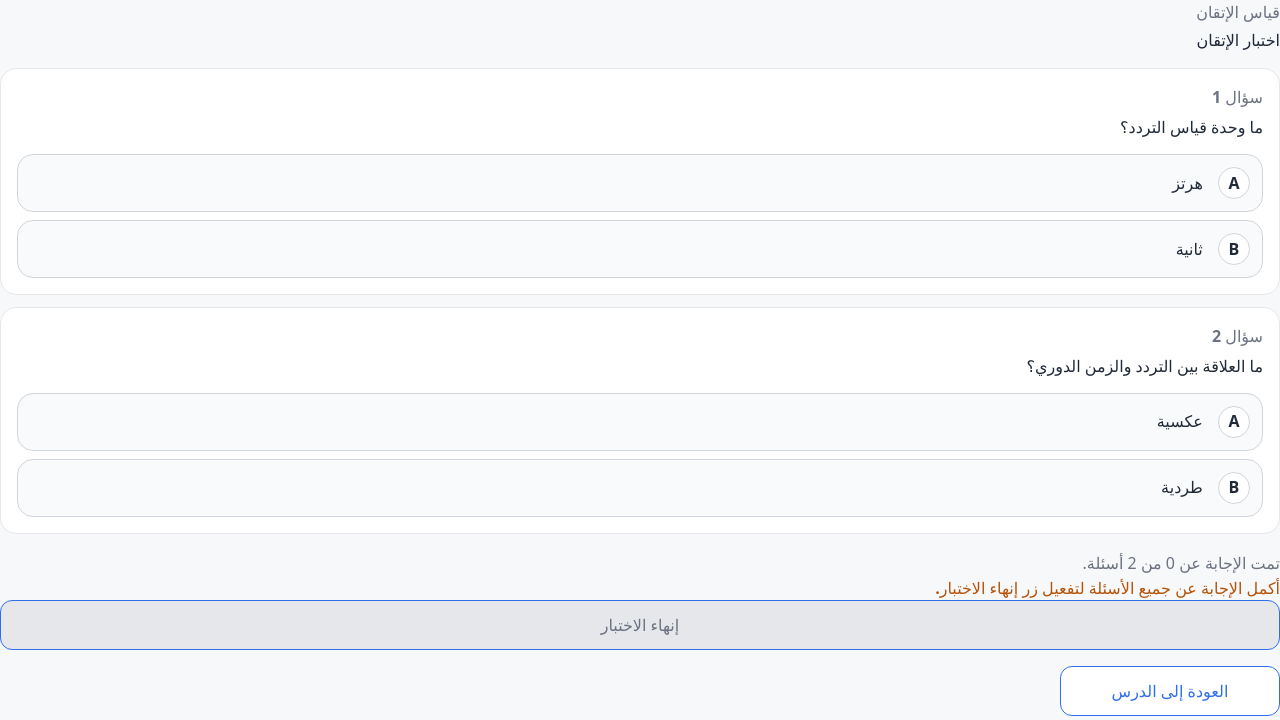
Test: MasteryTestView result persistence integration › يعامل الزائر كـnot_applicable بلا رسالة خطأ أو استدعاء خدمة
What coordinates should you click on to do the following:
click the button "A هرتز"
I would click on:
 (1234, 183)
Its box is [17,154,1263,212].
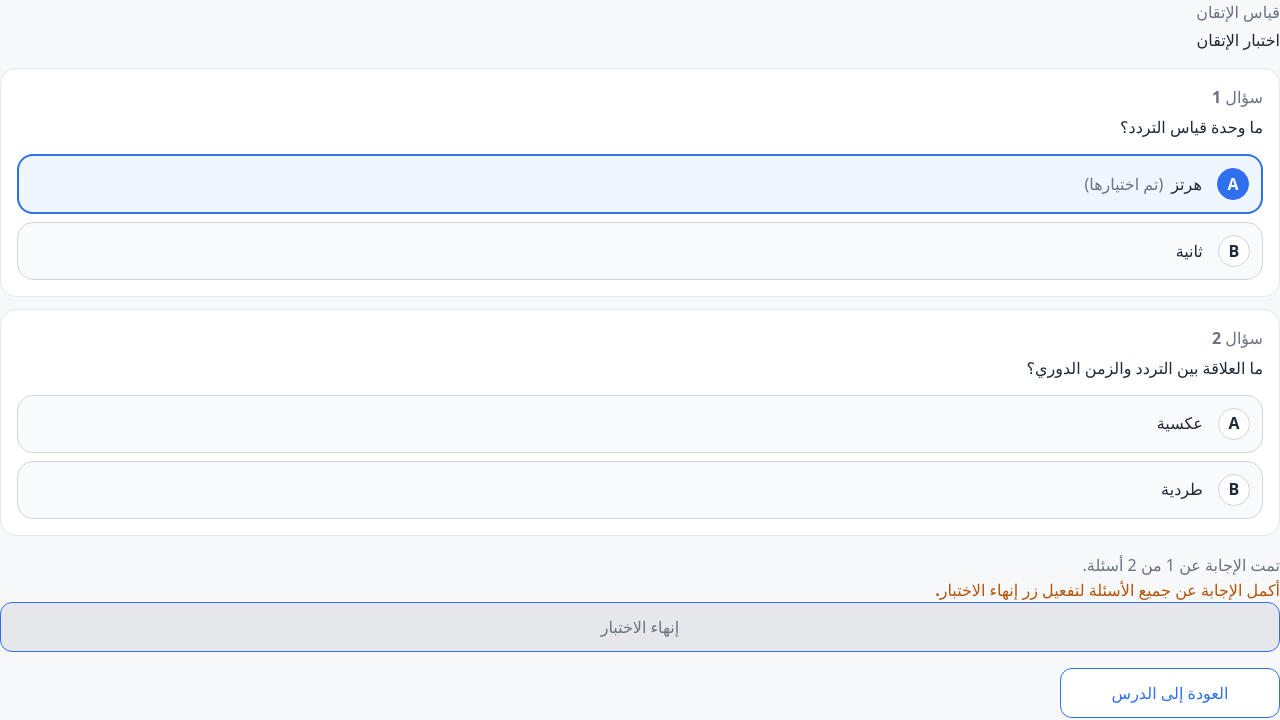
What coordinates should you click on to do the following:
click the button "A عكسية"
I would click on:
 (1234, 424)
Its box is [17,395,1263,453].
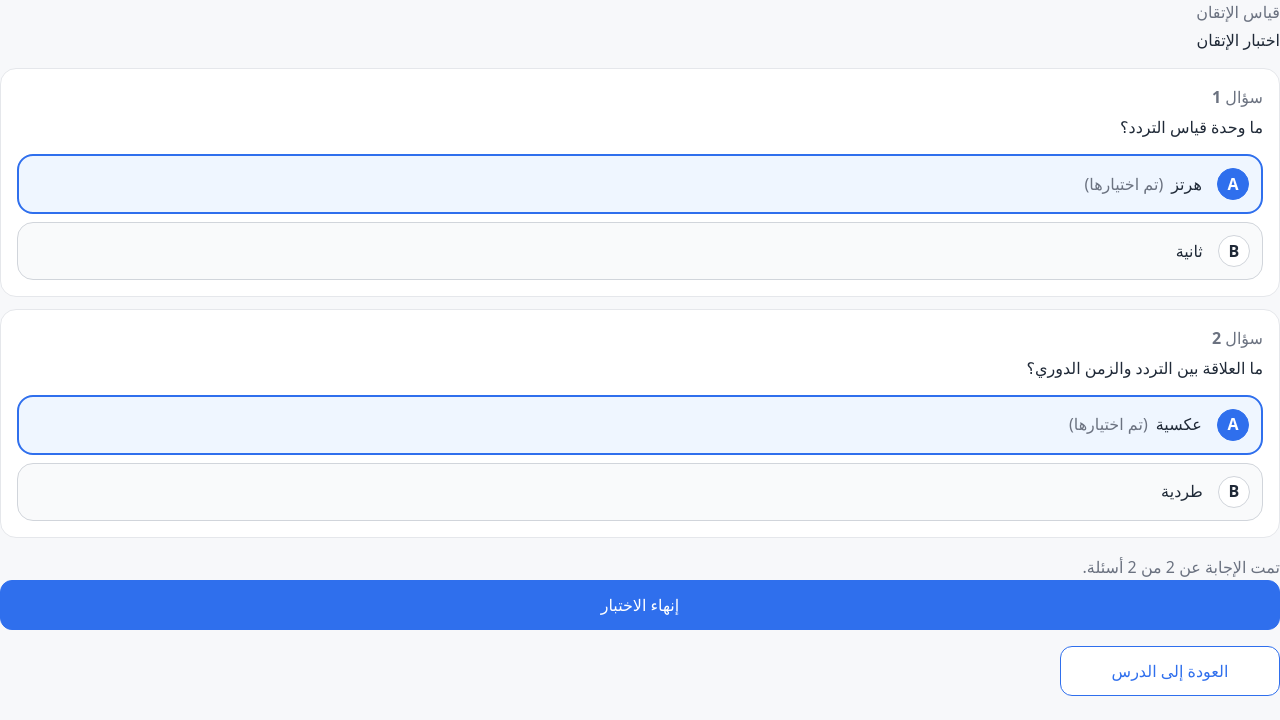
What coordinates should you click on to do the following:
click the button "إنهاء الاختبار"
I would click on:
 (640, 605)
Its box is [0,580,1279,630].
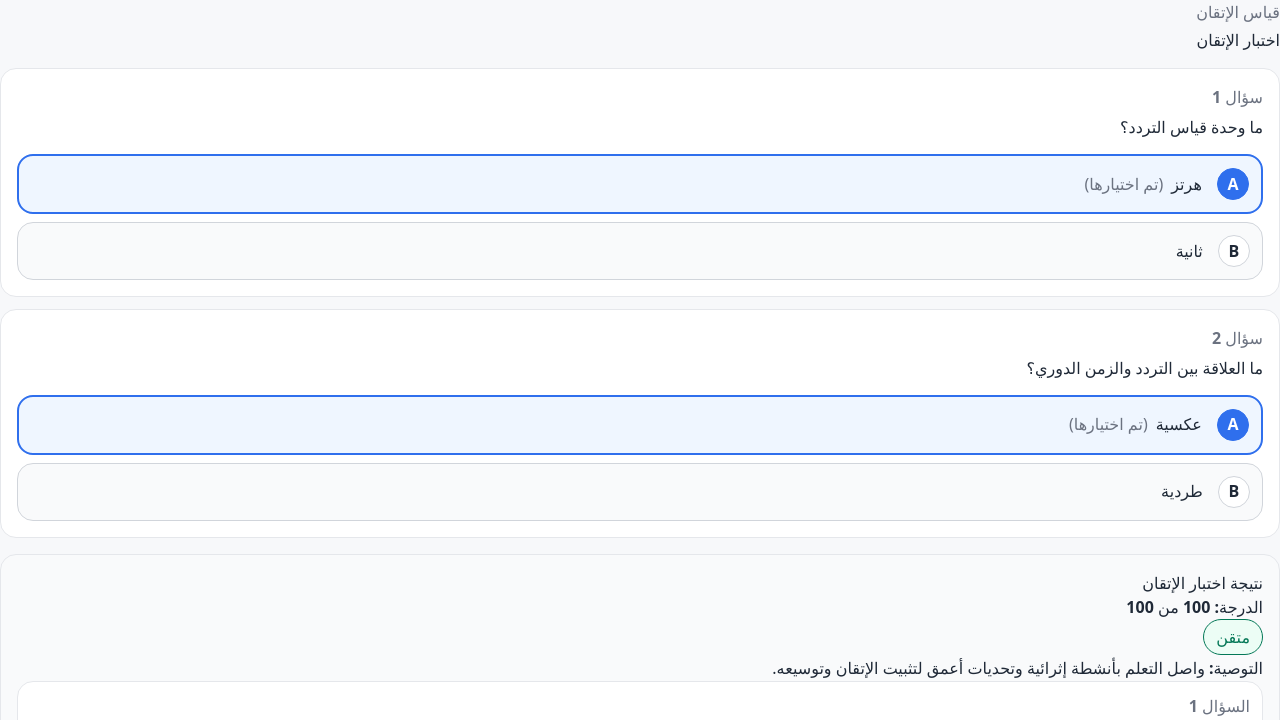
Expected: the text "الدرجة: 100 من 100" is shown, [1126,596,1263,618]
